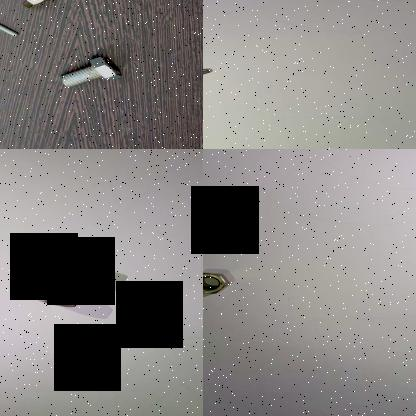Bolts: (54, 52, 127, 92), (0, 11, 23, 39), (0, 0, 56, 11), (203, 62, 215, 88)
NUTS: (33, 289, 83, 309), (44, 240, 80, 262), (203, 270, 232, 296), (203, 228, 228, 250)
